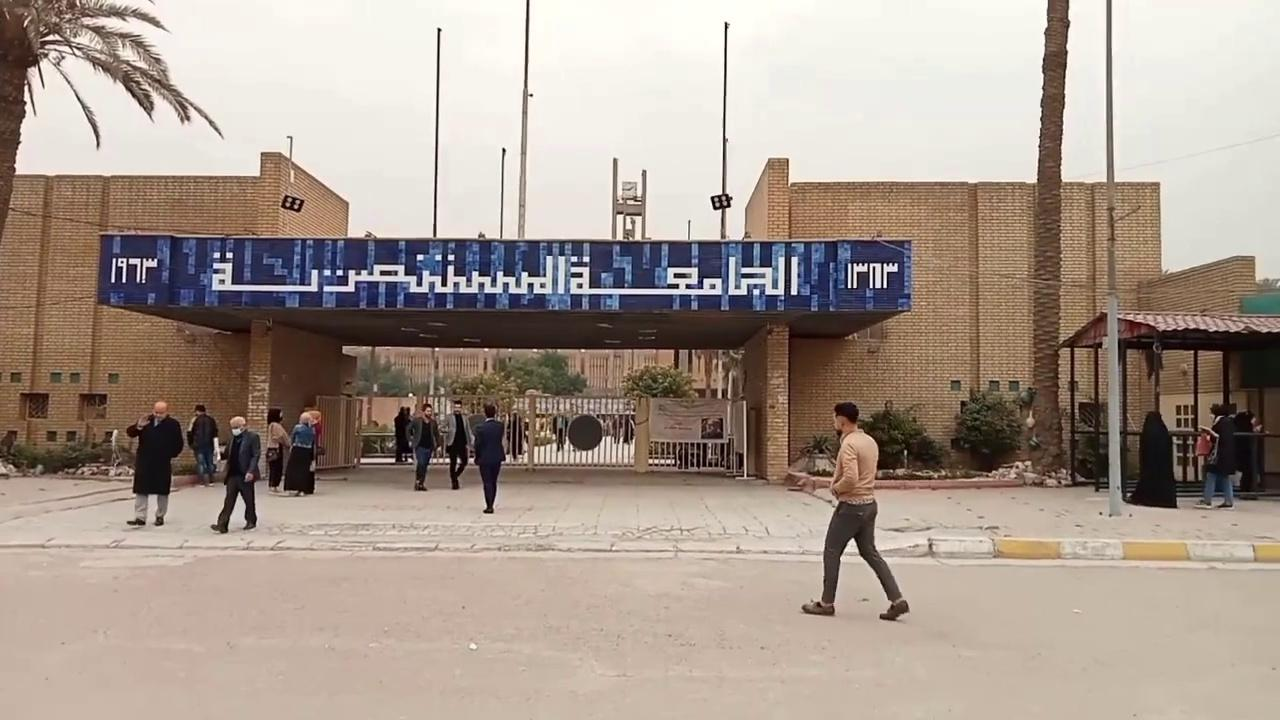person: (799, 401, 909, 620), (125, 400, 184, 526), (210, 415, 261, 533), (1125, 409, 1178, 507), (1193, 403, 1236, 508), (472, 402, 506, 513), (438, 398, 474, 489), (406, 403, 440, 490), (284, 411, 317, 496), (187, 403, 219, 487), (265, 407, 291, 491), (505, 407, 525, 462), (393, 406, 411, 463)
tree: (0, 0, 223, 239), (1023, 0, 1071, 475), (445, 351, 587, 456), (618, 362, 697, 469), (855, 399, 942, 472), (952, 387, 1025, 471), (352, 346, 393, 426), (618, 362, 697, 403), (533, 350, 587, 396), (796, 431, 836, 476)
